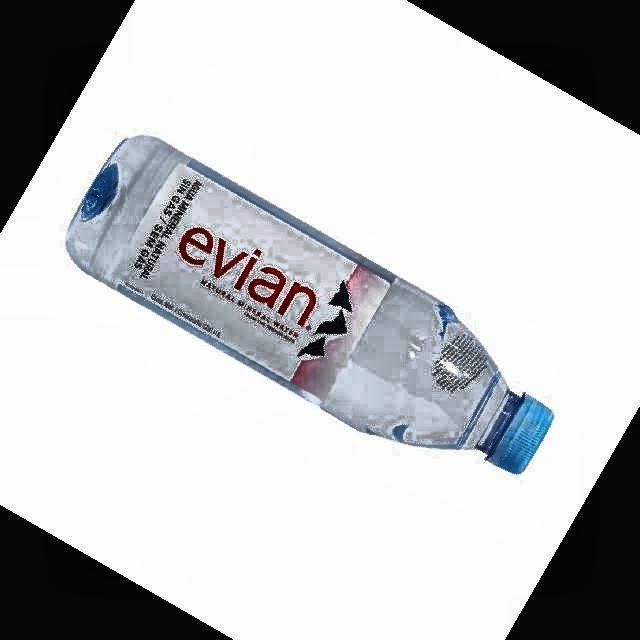plastic: (66, 135, 551, 474)
